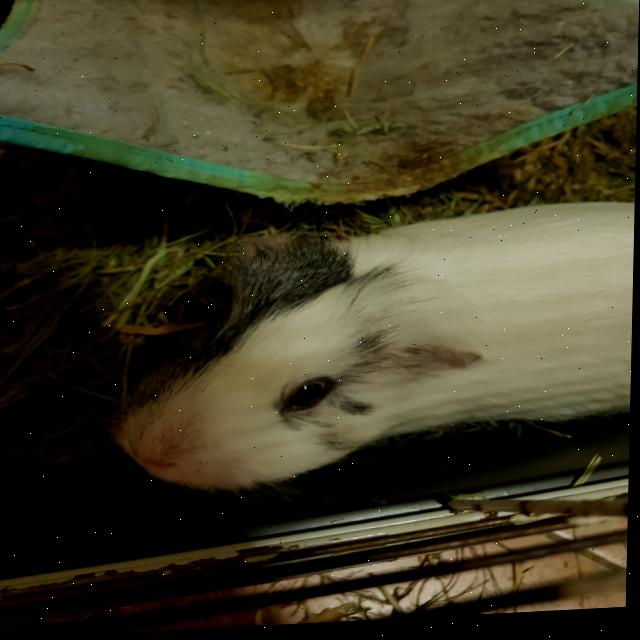guinea pig: (106, 202, 636, 502)
